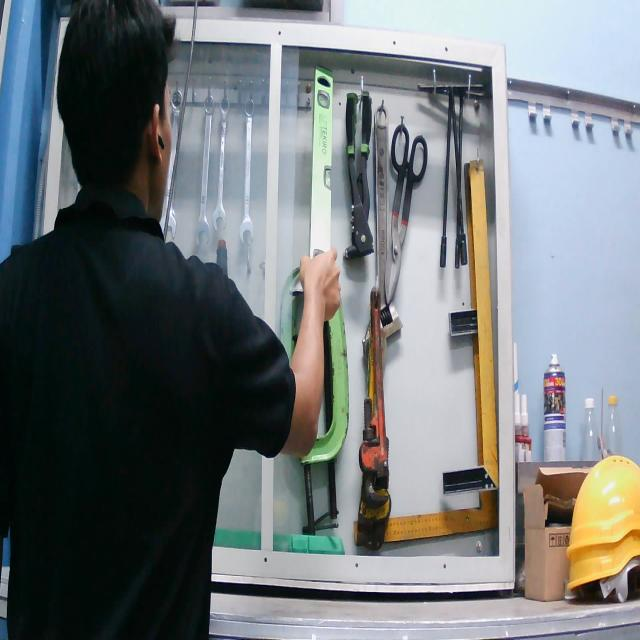water_pass: (303, 58, 340, 319)
